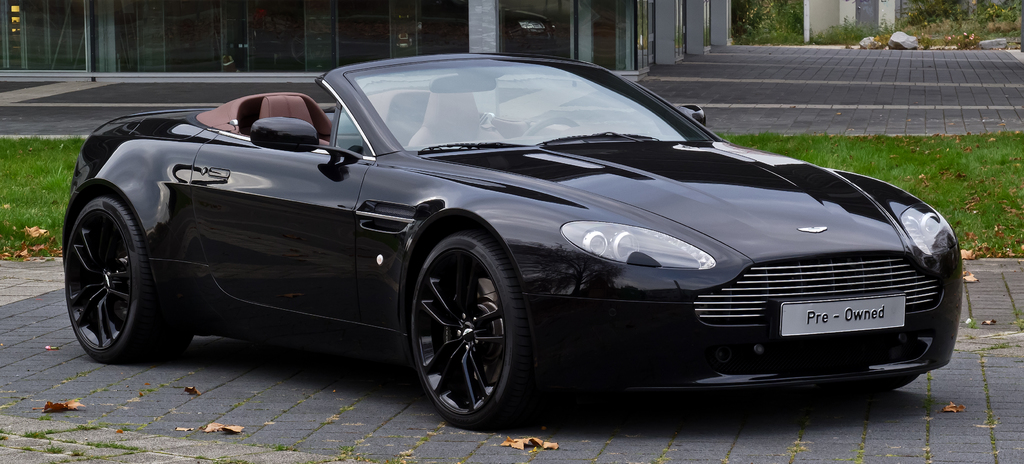cars: (42, 52, 994, 433)
